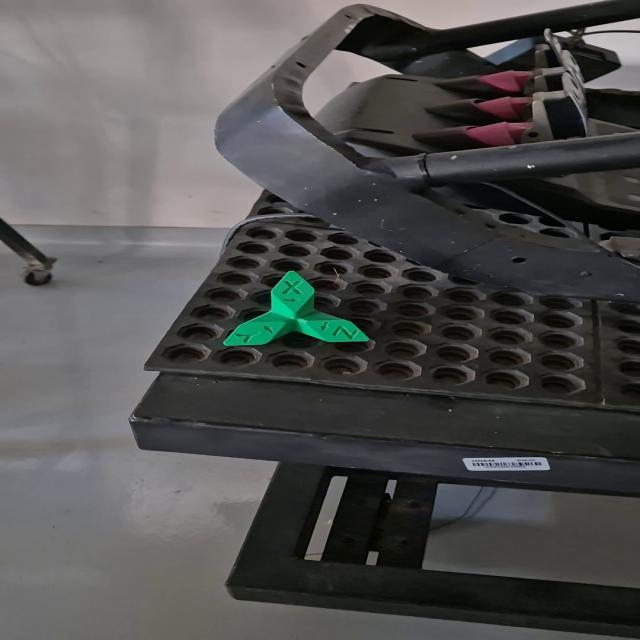objects: (220, 270, 371, 347)
